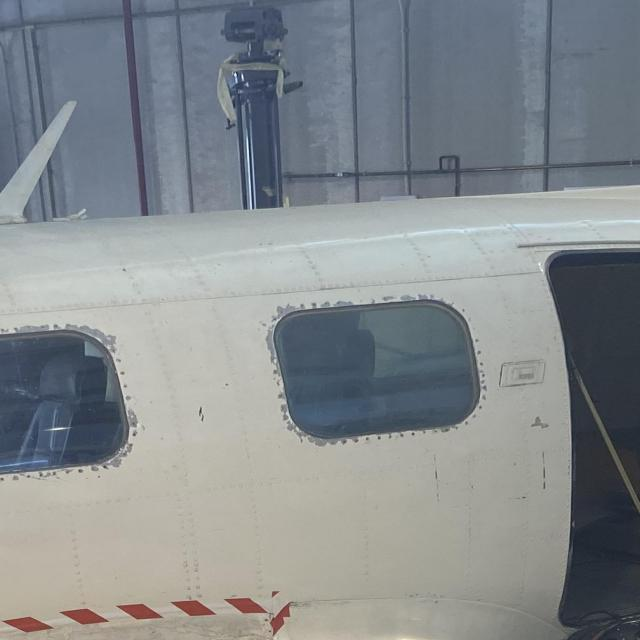Paint-off: (80, 324, 120, 347)
